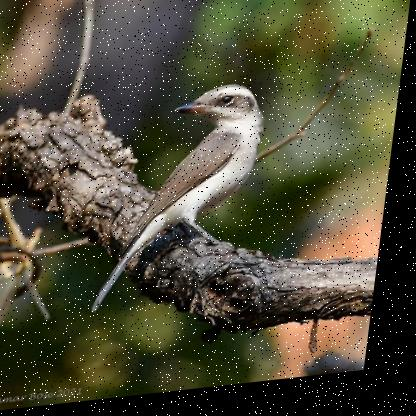Burung: (98, 86, 270, 314)
